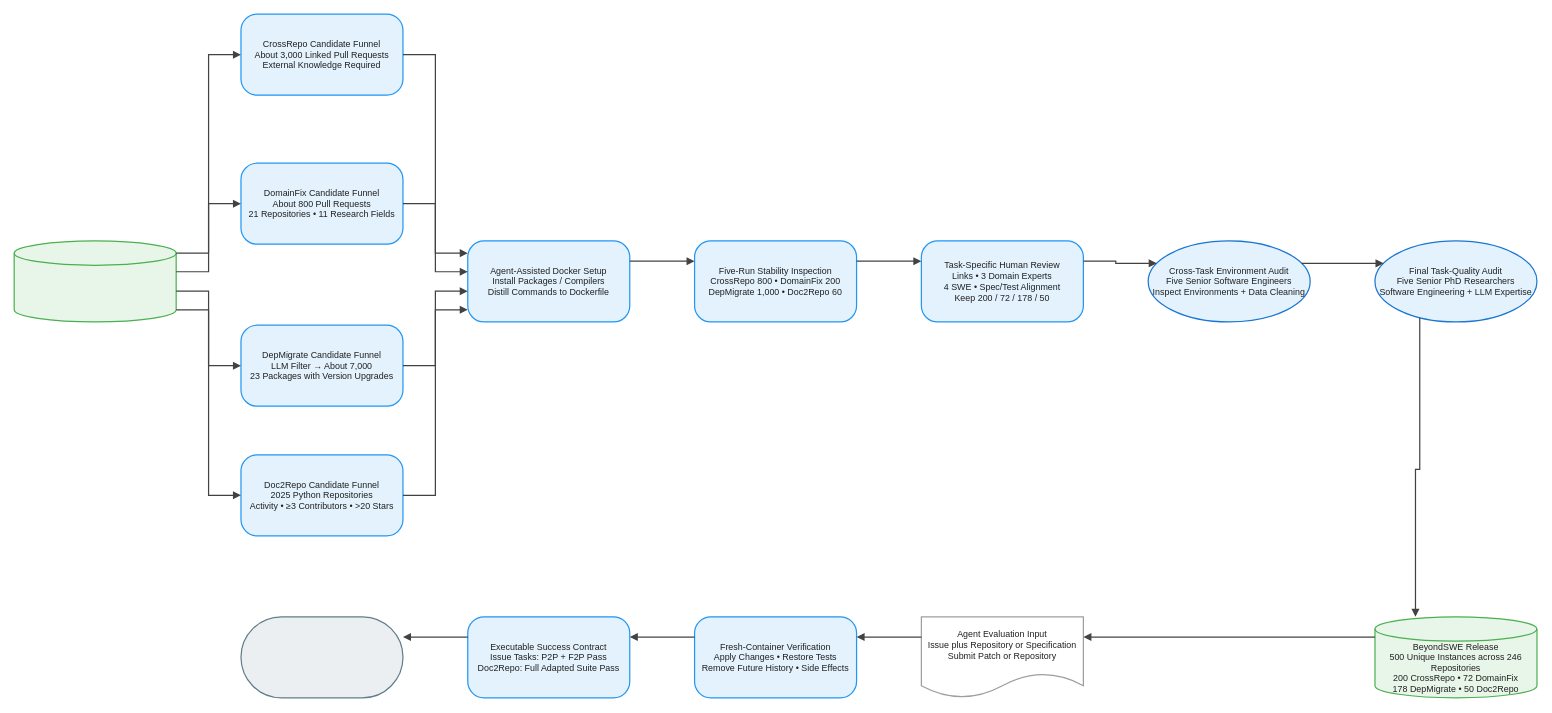
The diagram is 1552 pixels wide and 713 high, and some of its shapes have lost their labels. The shapes that lost their labels are listed below. From the top down, each one's box as (x1, y1, x2, y2) in pixels, then its label:
(13, 240, 176, 322): Candidate Sources by Task PRs • Links • Upgrades New Repos • Specifications
(240, 616, 403, 698): Task Metrics Resolved Rate (P2P / F2P) Doc2Repo Pass + Correct Counts
